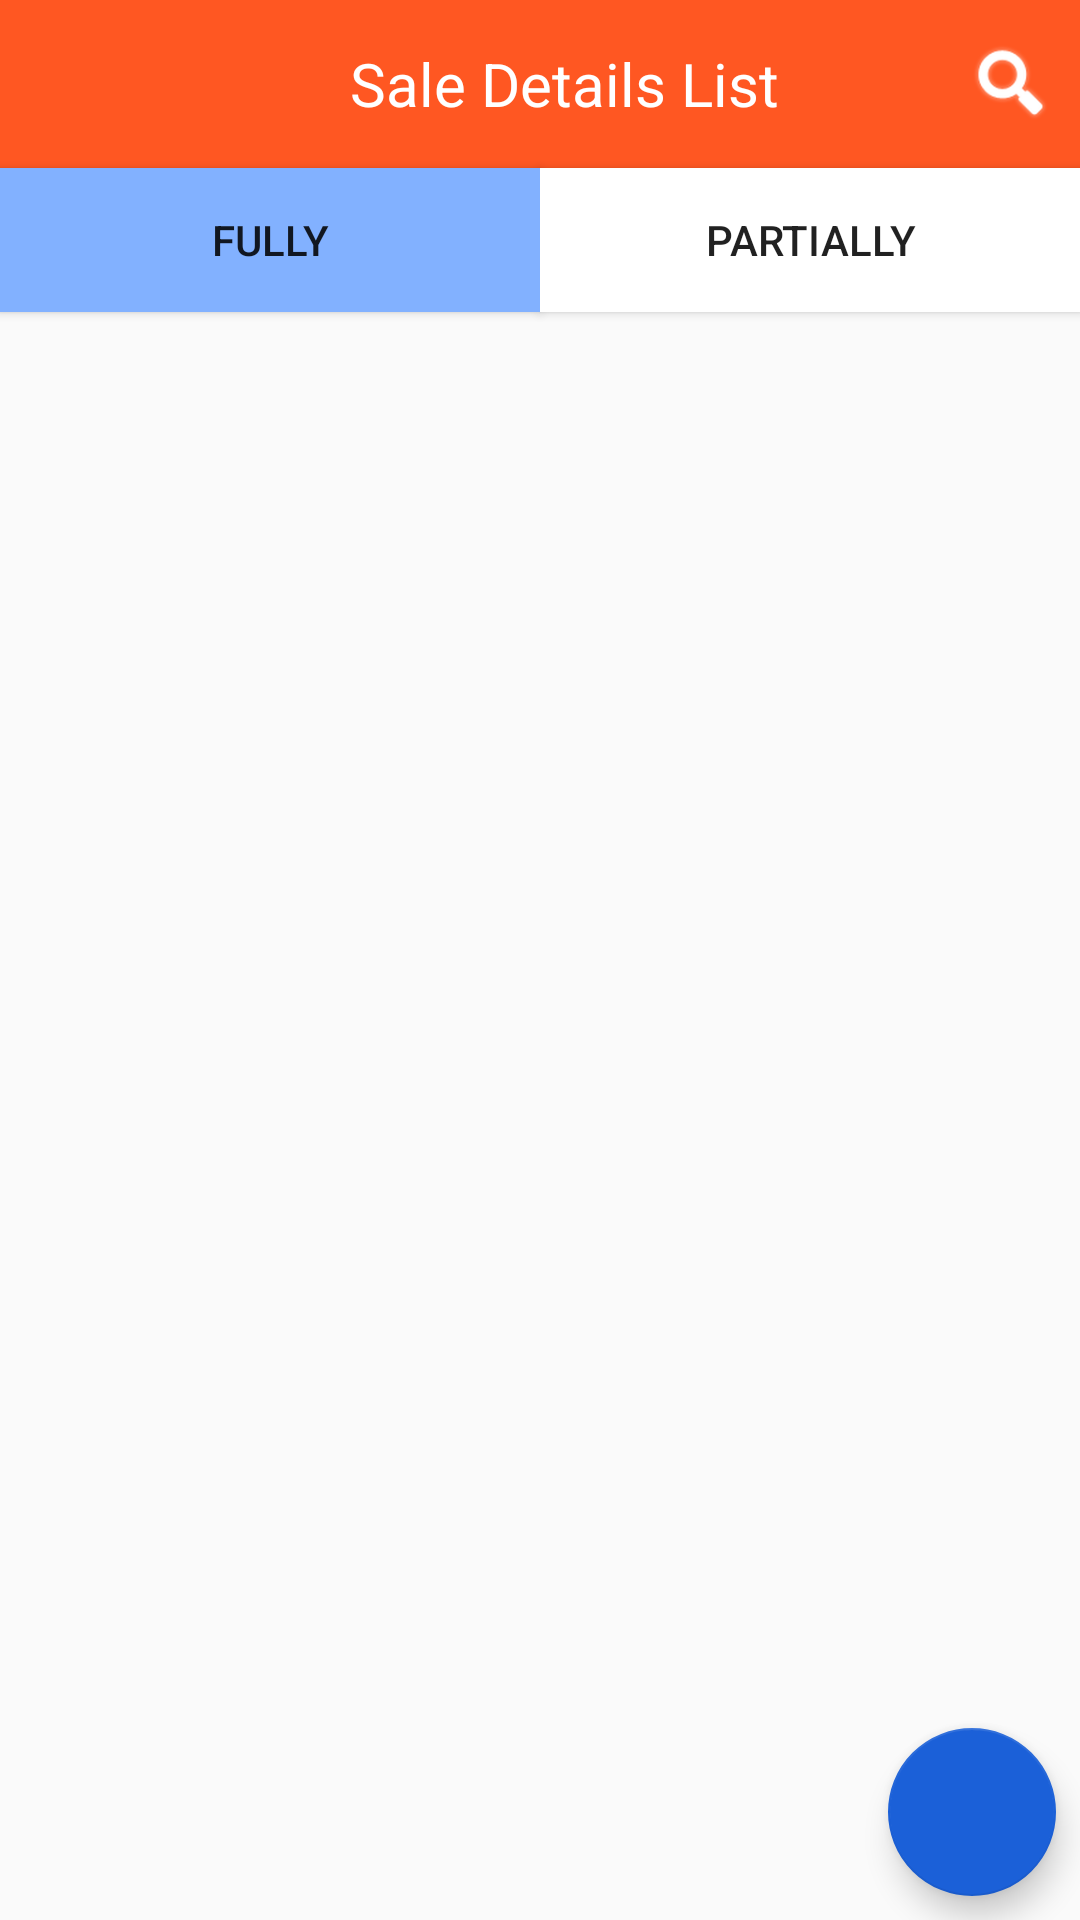

Screen size 1080×1920. Icon name, then its center in pixels as (x=x, y=y):
search: (x=1010, y=82)
